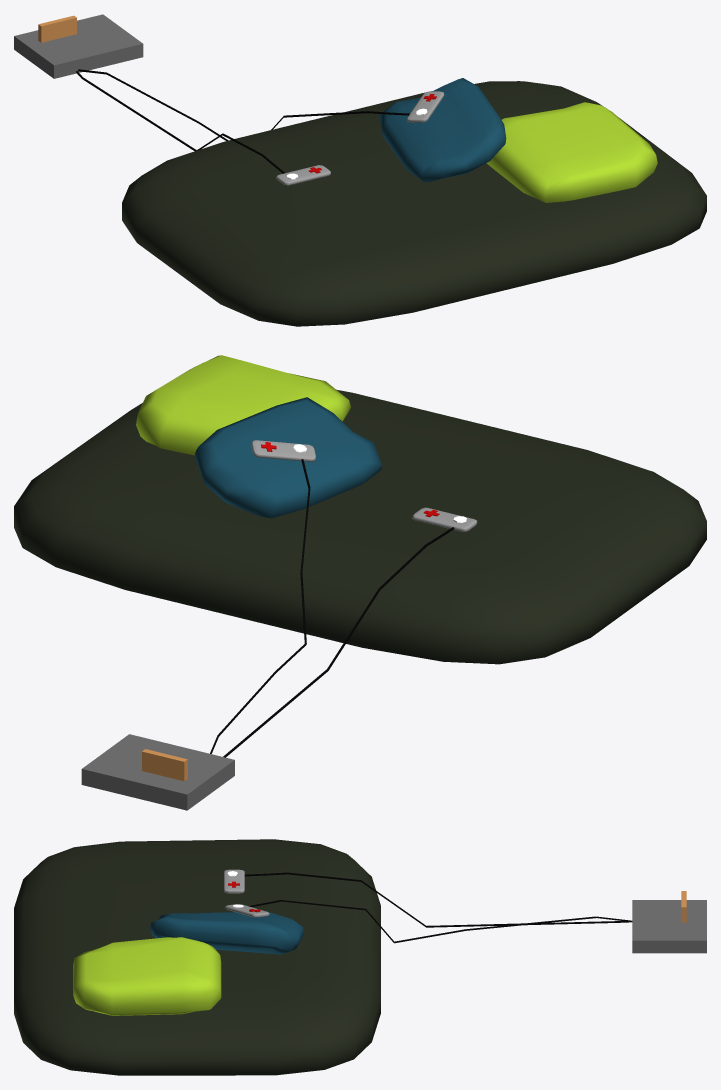
File: Bed_Gamer.glb
The picture shows the model from 3 angles, top to bottom: view 1: azimuth 30°, elevation 25°; view 2: azimuth 150°, elevation 25°; view 3: azimuth 270°, elevation 25°; orthographic projection. The views are drawn at different scales.
Visible parts, largest first — view 1: roofroom_bed_sega_geo; view 2: roofroom_bed_sega_geo; view 3: roofroom_bed_sega_geo.
Part boxes in pixels (left/top/right/bottom): roofroom_bed_sega_geo: left=14, top=14, right=706, bottom=326; roofroom_bed_sega_geo: left=14, top=355, right=706, bottom=810; roofroom_bed_sega_geo: left=14, top=839, right=706, bottom=1075.
Size of what is drawn, in the model's own units: 2.39 by 0.4478 by 3.26.
1 material, 1 textured.
